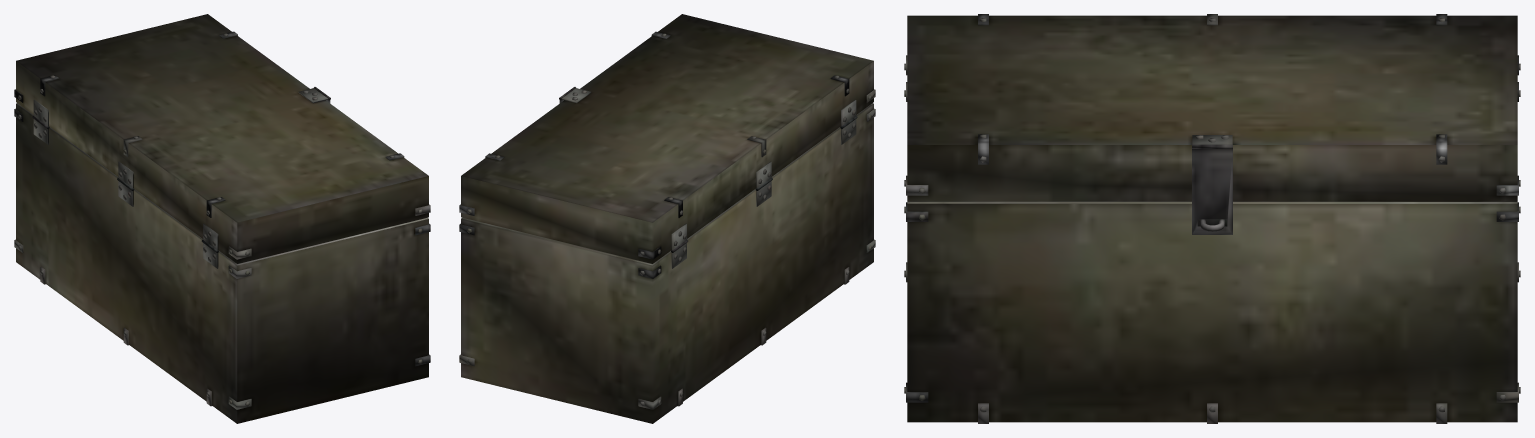
The model's file is footlocker01_closed.glb.
The picture shows the model from 3 angles, left to right: view 1: azimuth 30°, elevation 25°; view 2: azimuth 150°, elevation 25°; view 3: azimuth 270°, elevation 25°; orthographic projection. The views are drawn at different scales.
Visible parts, largest first — view 1: 0_FootLocker01_Open; view 2: 0_FootLocker01_Open; view 3: 0_FootLocker01_Open.
Part boxes in pixels (x1,y1,x2,y2): 0_FootLocker01_Open: (14,14,430,423); 0_FootLocker01_Open: (459,14,875,423); 0_FootLocker01_Open: (904,14,1520,423).
Bounding box in the file's own units: 0.6639 × 0.6241 × 1.23.
1 material, 1 textured.
